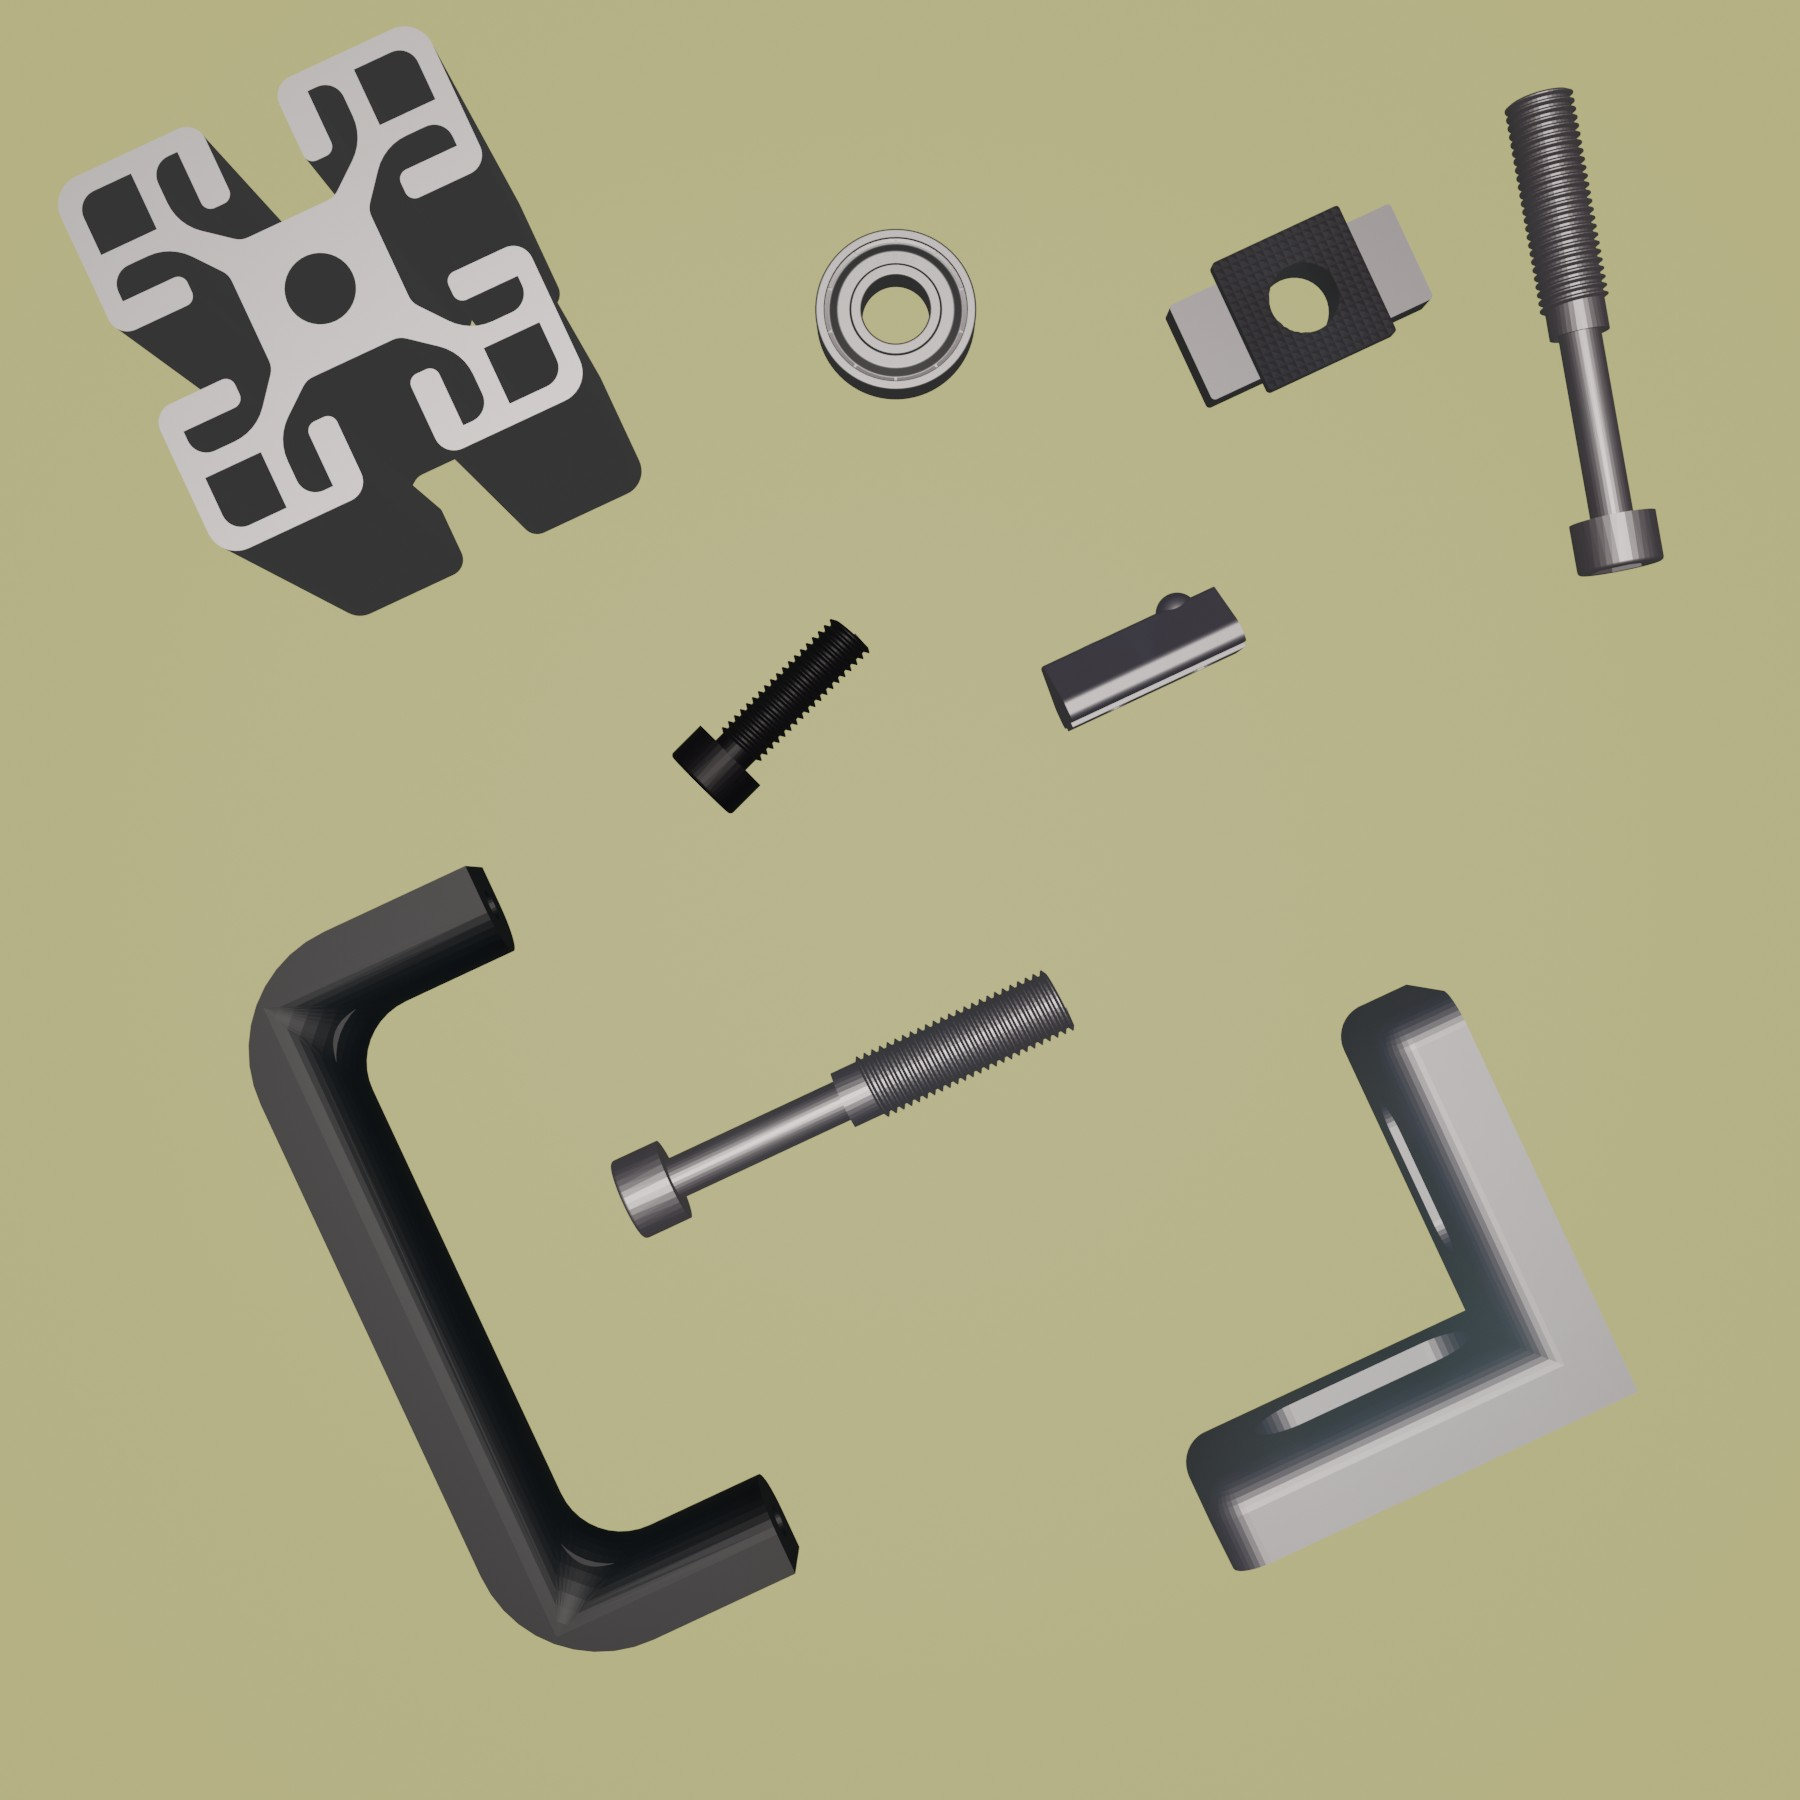Aluminium Extension: (58, 23, 643, 618)
Ball Bearing: (813, 223, 977, 401)
Multiwinkel: (1182, 977, 1640, 1574)
Pull Handle: (246, 862, 799, 1653)
Shoulder Socket Head Cap Screw: (608, 966, 1081, 1241), (1500, 82, 1666, 580)
Socket Head Cap Screw: (673, 612, 870, 816)
T Nut Square: (1165, 195, 1436, 412)
T Spring Nut: (1037, 580, 1251, 735)
